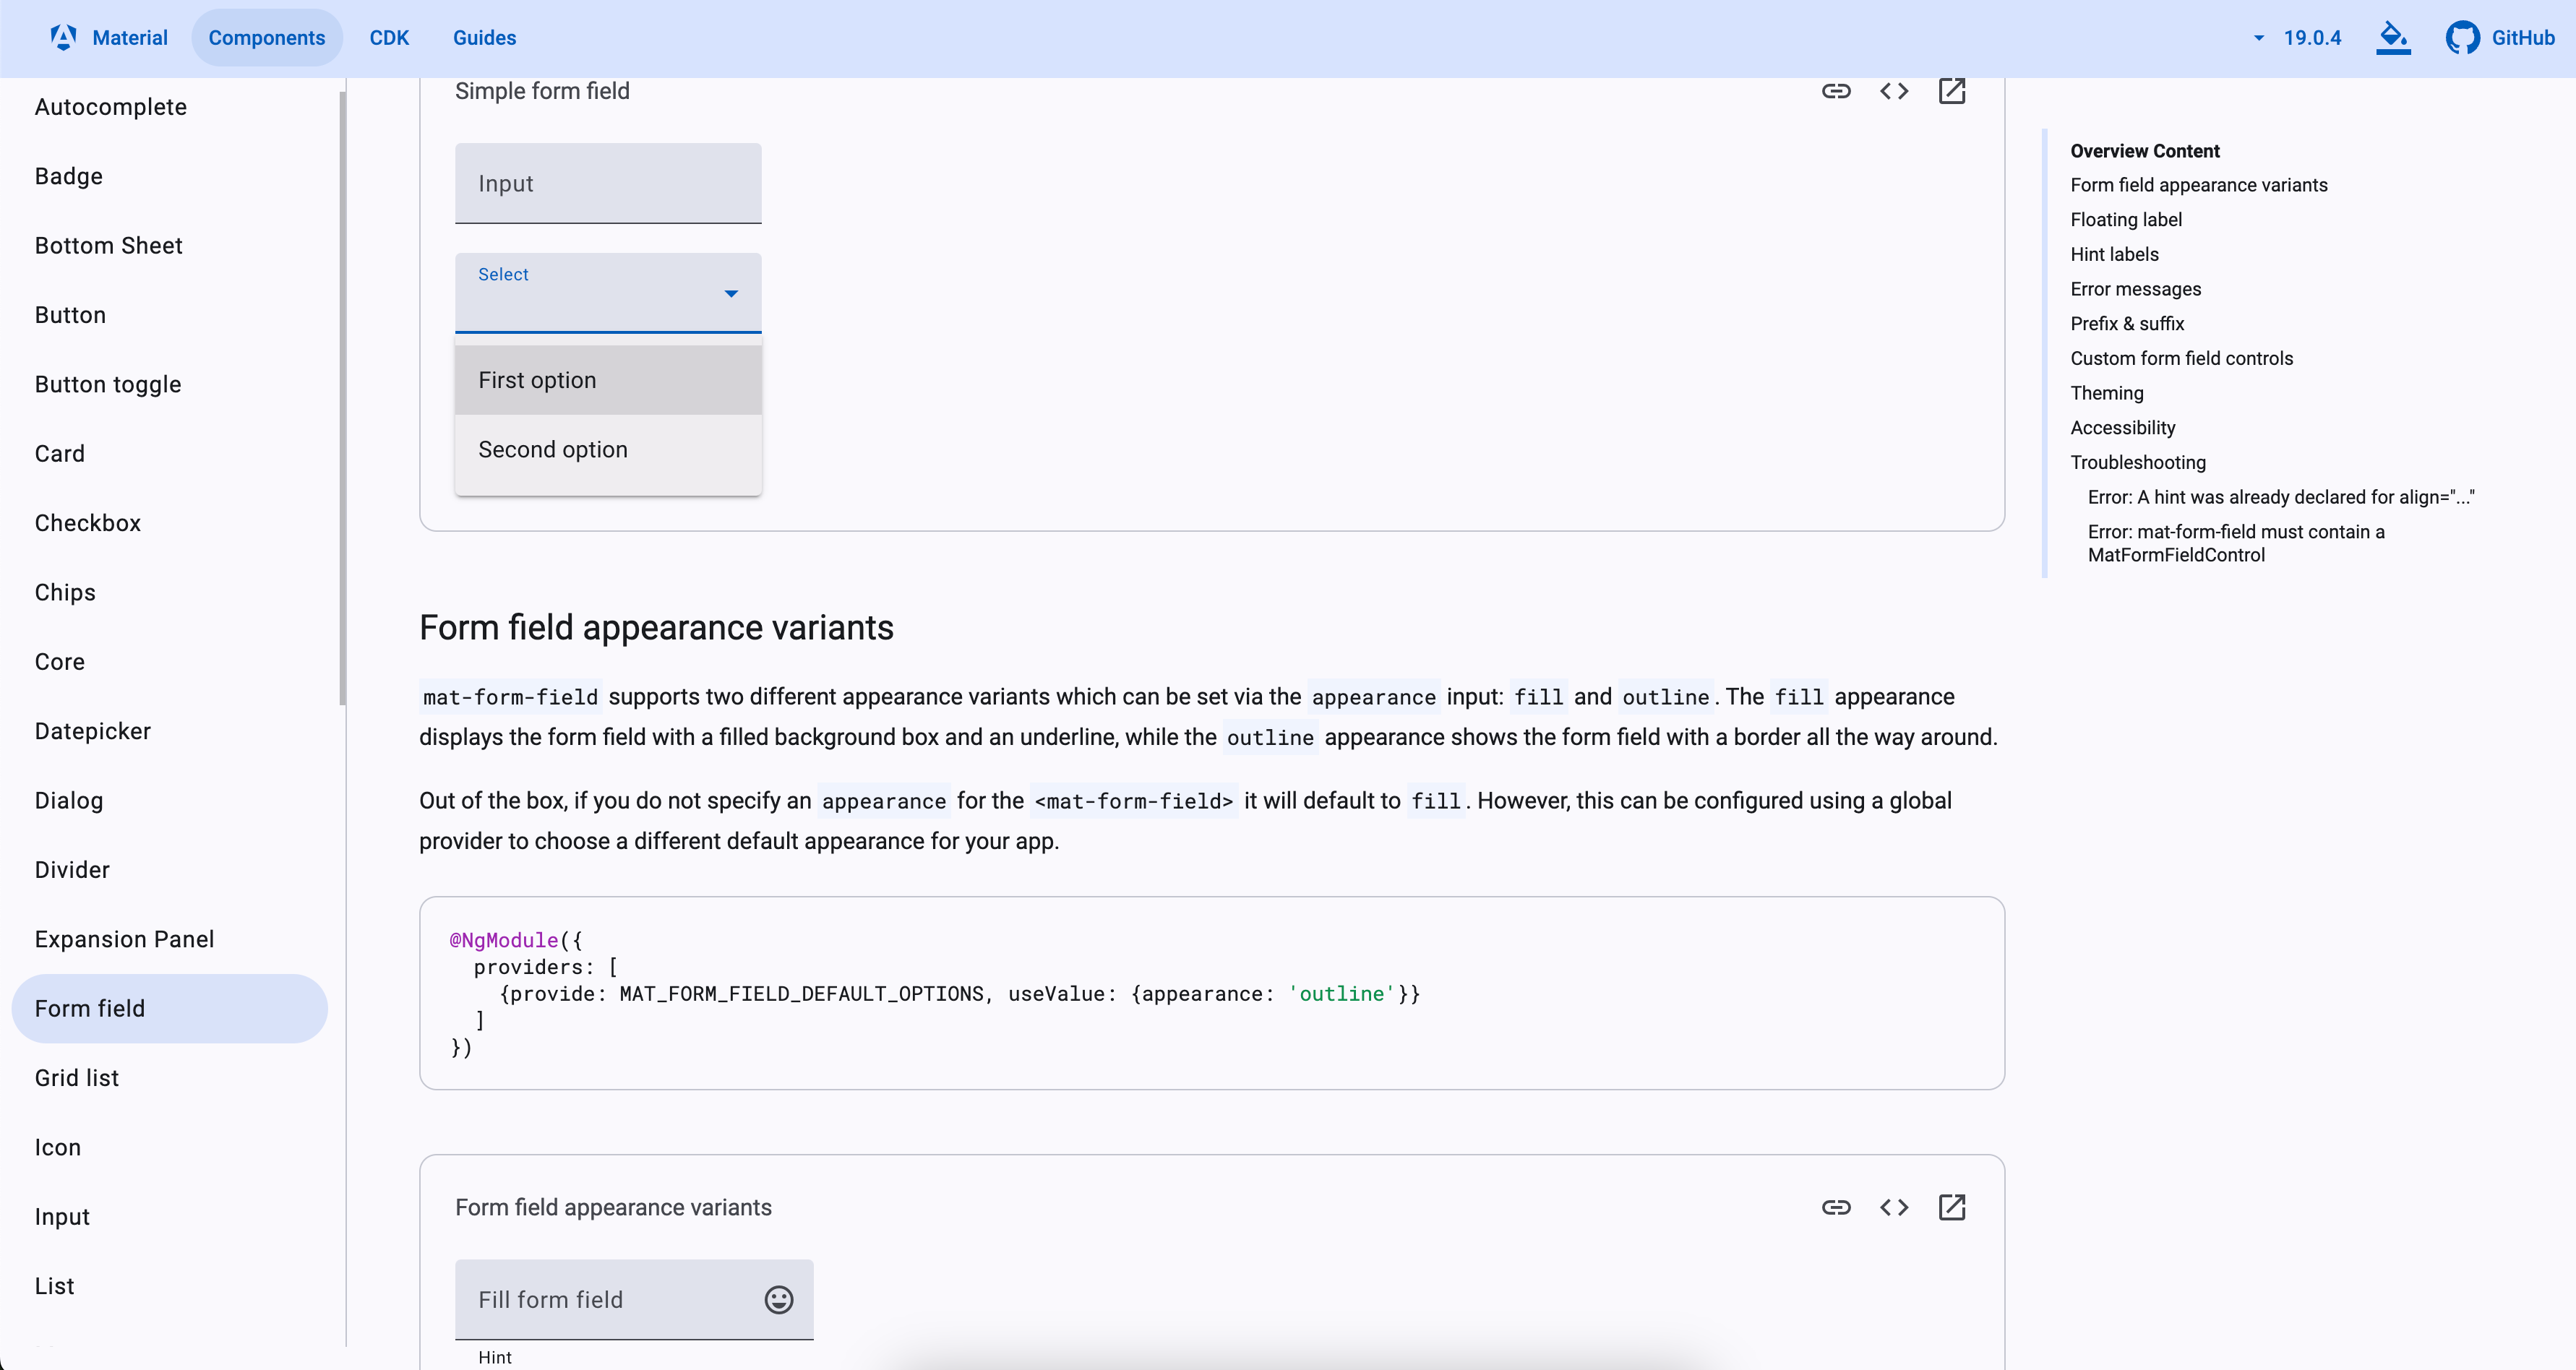input: (453, 1256, 818, 1343), (451, 140, 763, 227)
label: (479, 1290, 624, 1314), (479, 172, 533, 198)
